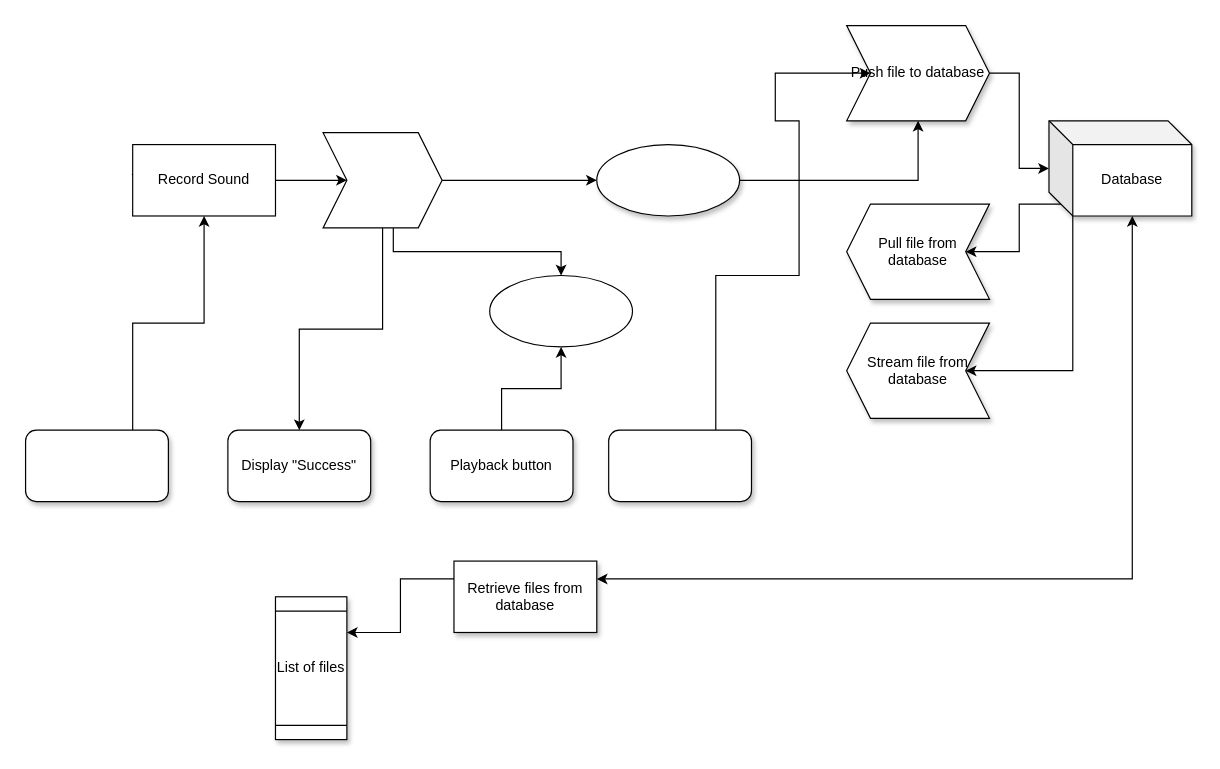
Some shapes in this 1220 by 769 pixel diagram are drawn without their labels. Each missing label, with the centre of its shape:
"Get pointer to local file" goes at [669,181].
"Playback sound" goes at [560,310].
"Record button" goes at [98,467].
"Save button" goes at [681,467].
"Save sound to local file" goes at [382,179].
